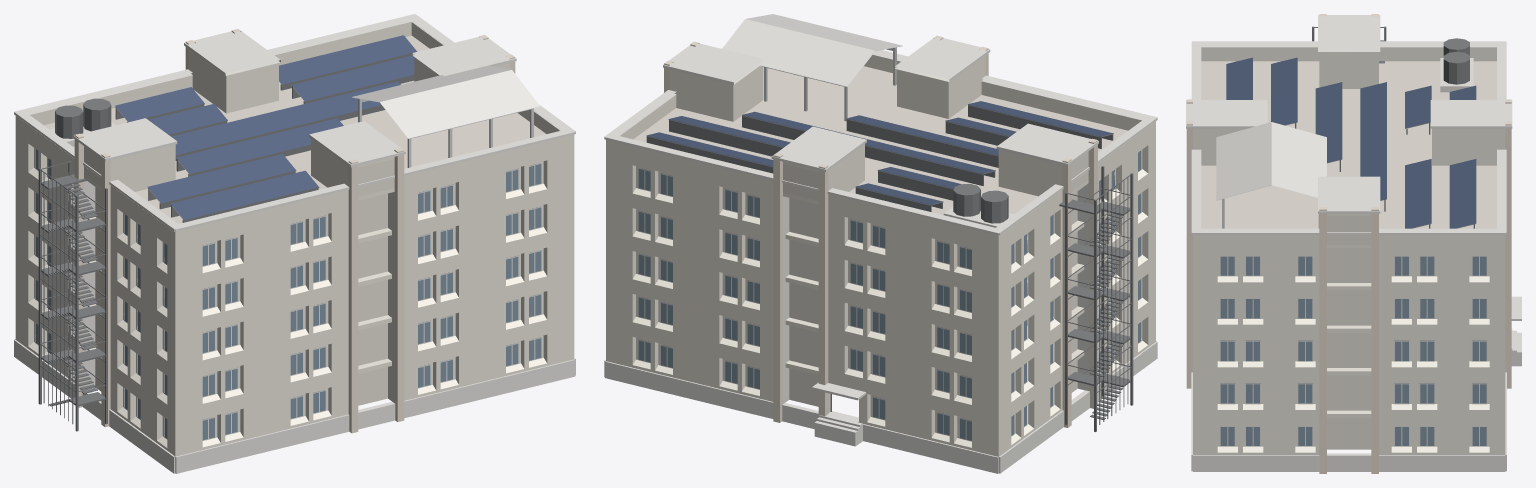
The model's file is Chenab_Hostel.fbx.
3 renders of one model, left to right at view 1: azimuth 30°, elevation 25°; view 2: azimuth 150°, elevation 25°; view 3: azimuth 270°, elevation 25°, orthographic. The views are drawn at different scales.
Parts seen in each view (by area): view 1: Chenab_Hostel; view 2: Chenab_Hostel; view 3: Chenab_Hostel.
Part boxes in pixels (left/top/right/bottom): Chenab_Hostel: left=14, top=14, right=575, bottom=473; Chenab_Hostel: left=604, top=14, right=1157, bottom=473; Chenab_Hostel: left=1186, top=14, right=1521, bottom=473.
Bounding box in the file's own units: 36.18 × 22.02 × 24.3.
